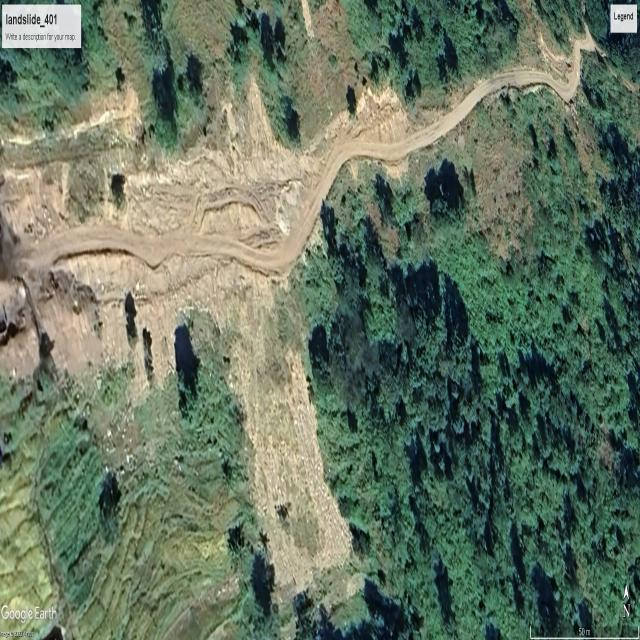Landslide: (228, 289, 356, 589), (224, 85, 282, 174)
